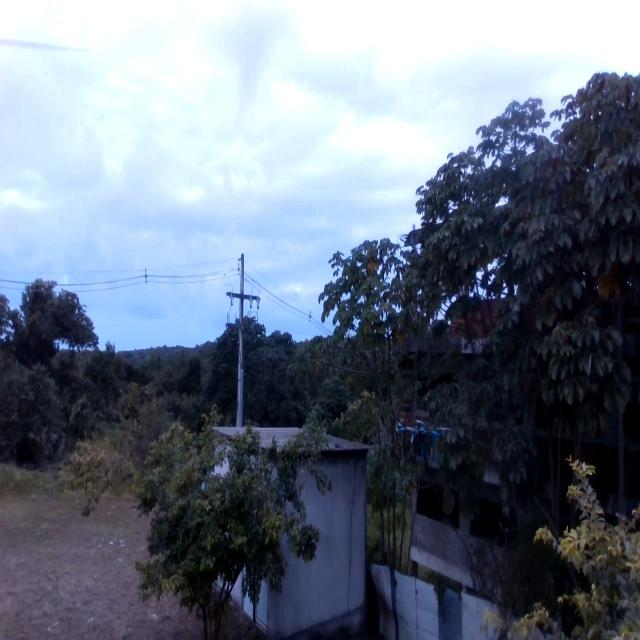-uav-: (392, 396, 448, 464)
